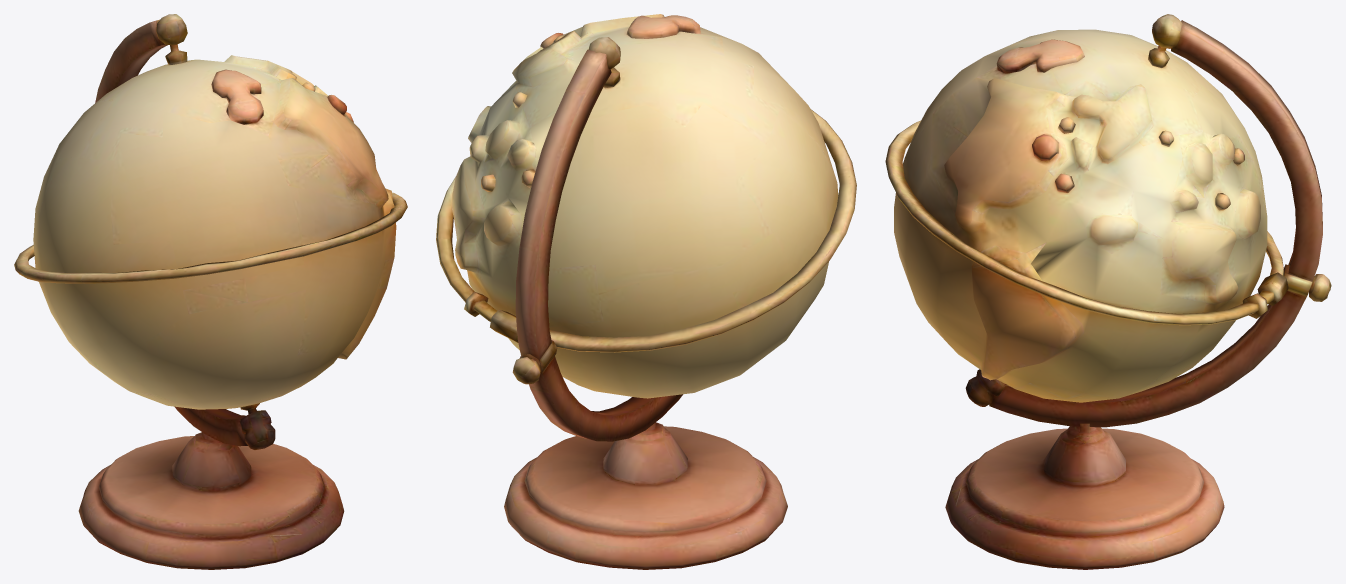
Rendered from desk-scout.glb.
The picture shows the model from 3 angles, left to right: view 1: azimuth 30°, elevation 25°; view 2: azimuth 150°, elevation 25°; view 3: azimuth 270°, elevation 25°; orthographic projection. The views are drawn at different scales.
Parts seen in each view (by area): view 1: tripo_node_c9b7c68d-622f-465b-b0fb-f4403965bd7b; view 2: tripo_node_c9b7c68d-622f-465b-b0fb-f4403965bd7b; view 3: tripo_node_c9b7c68d-622f-465b-b0fb-f4403965bd7b.
Boxes of the visible parts, <box> form: tripo_node_c9b7c68d-622f-465b-b0fb-f4403965bd7b: <box>14,14,407,569</box>; tripo_node_c9b7c68d-622f-465b-b0fb-f4403965bd7b: <box>436,14,856,569</box>; tripo_node_c9b7c68d-622f-465b-b0fb-f4403965bd7b: <box>885,14,1331,569</box>.
Bounding box in the file's own units: 0.7676 × 0.998 × 0.8145.
Materials: 1 (1 with a texture image).
